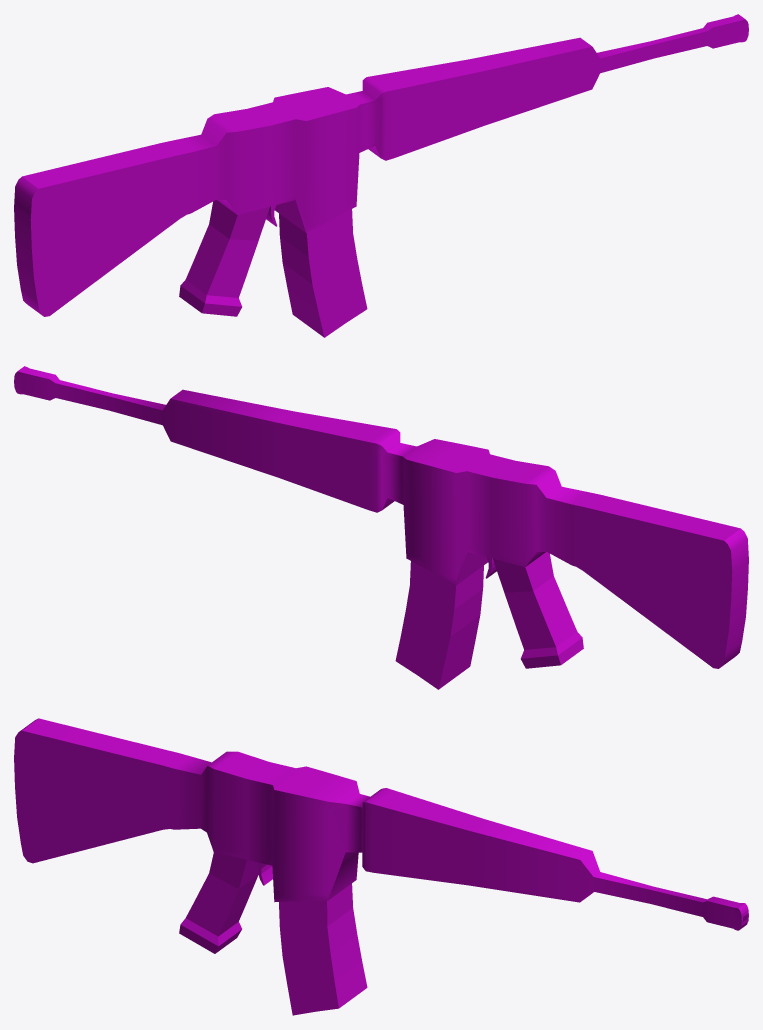
File: Arma1.fbx
3 renders of one model, top to bottom at view 1: azimuth 30°, elevation 25°; view 2: azimuth 150°, elevation 25°; view 3: azimuth 330°, elevation 25°, orthographic.
Parts seen in each view (by area): view 1: Rifle; view 2: Rifle; view 3: Rifle.
Part boxes in pixels (x1,y1,x2,y2): Rifle: (14,14,748,337); Rifle: (14,366,748,689); Rifle: (14,718,748,1015).
Bounding box in the file's own units: 78.67 × 6.05 × 23.43.
